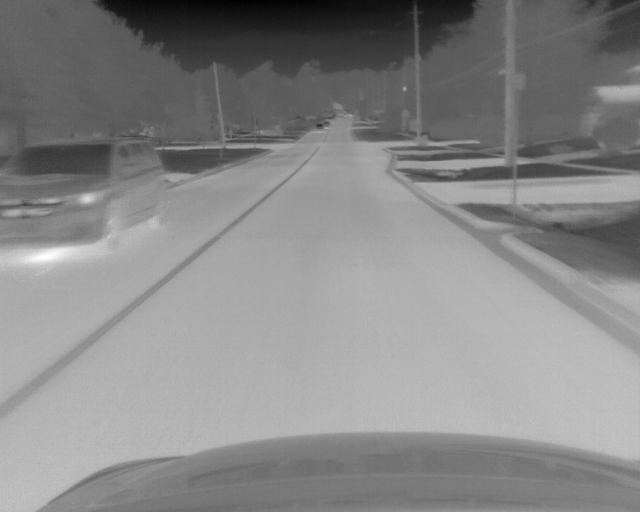car: (3, 134, 165, 258), (315, 122, 324, 135), (321, 120, 329, 130)
